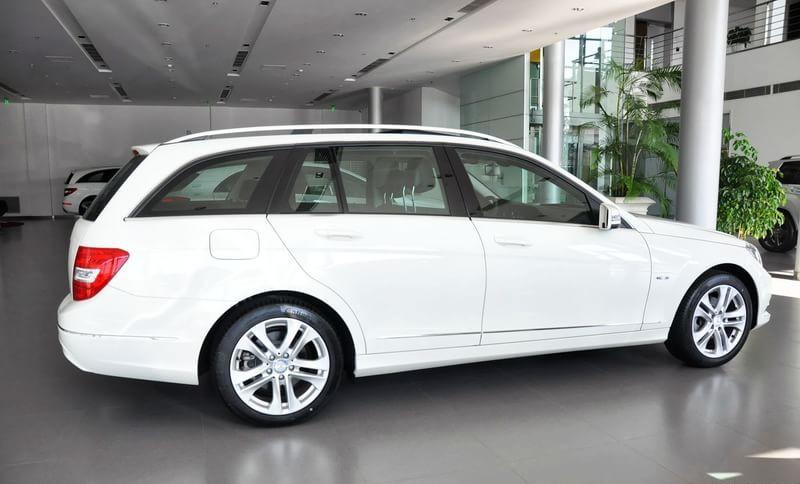Wagon: (55, 121, 775, 428)
